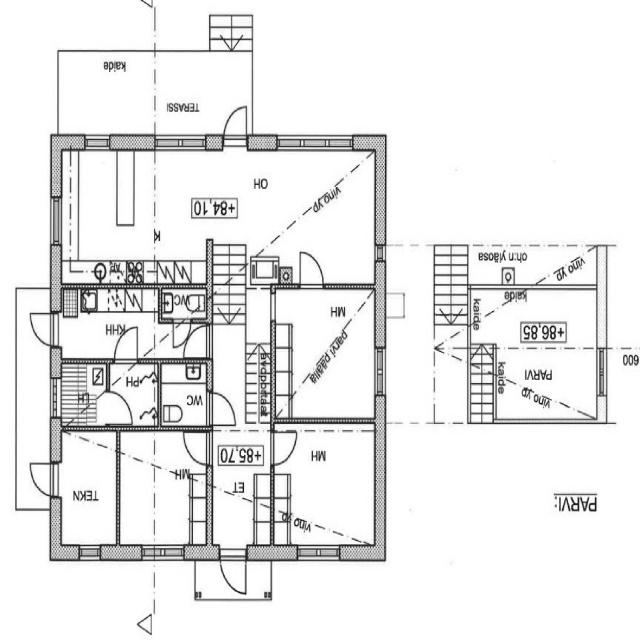door: (220, 544, 246, 597), (223, 101, 247, 151), (27, 314, 61, 347), (27, 464, 61, 496), (184, 326, 213, 358), (114, 326, 138, 364), (185, 433, 213, 464), (270, 432, 297, 464), (300, 251, 322, 289), (106, 392, 132, 424), (207, 394, 234, 424), (173, 318, 190, 348)
